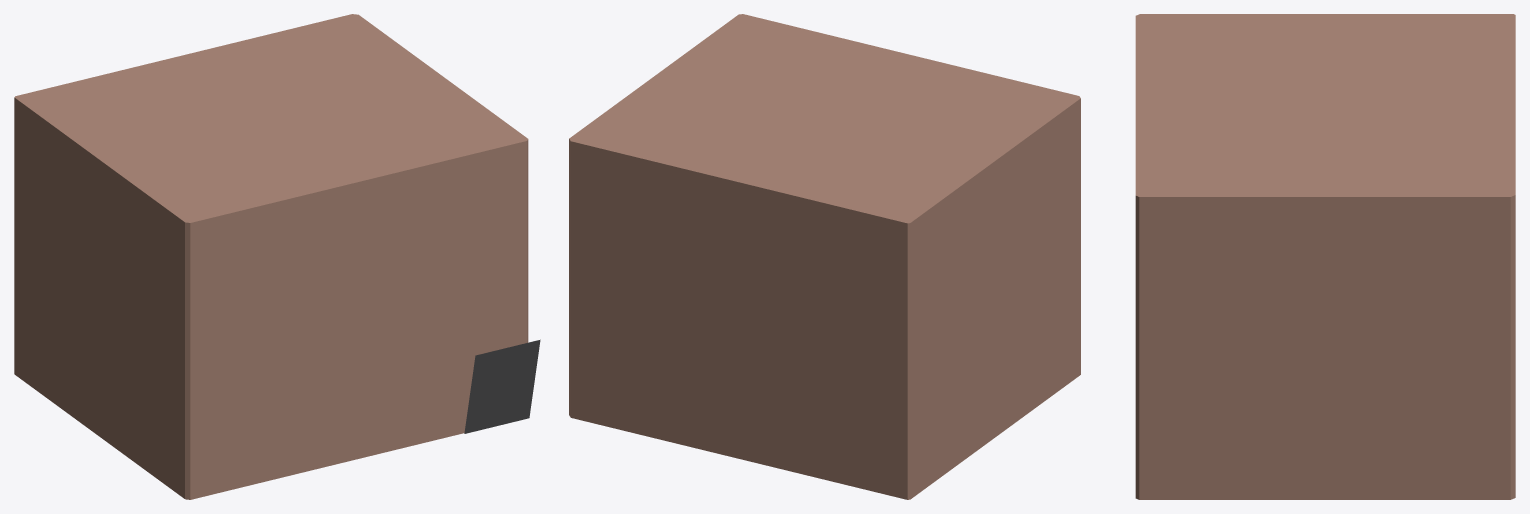
The model's file is loin-etape-1.glb.
3 views of the same model, side by side, from view 1: azimuth 30°, elevation 25°; view 2: azimuth 150°, elevation 25°; view 3: azimuth 270°, elevation 25° (orthographic). The views are drawn at different scales.
Parts seen in each view (by area): view 1: loin; view 2: loin; view 3: loin.
Boxes of the visible parts, left/top/right/bottom form: loin: left=14, top=14, right=540, bottom=499; loin: left=569, top=14, right=1080, bottom=499; loin: left=1135, top=14, right=1515, bottom=499.
Size of the model in its own units: 0.7591 by 0.5857 by 0.7122.
